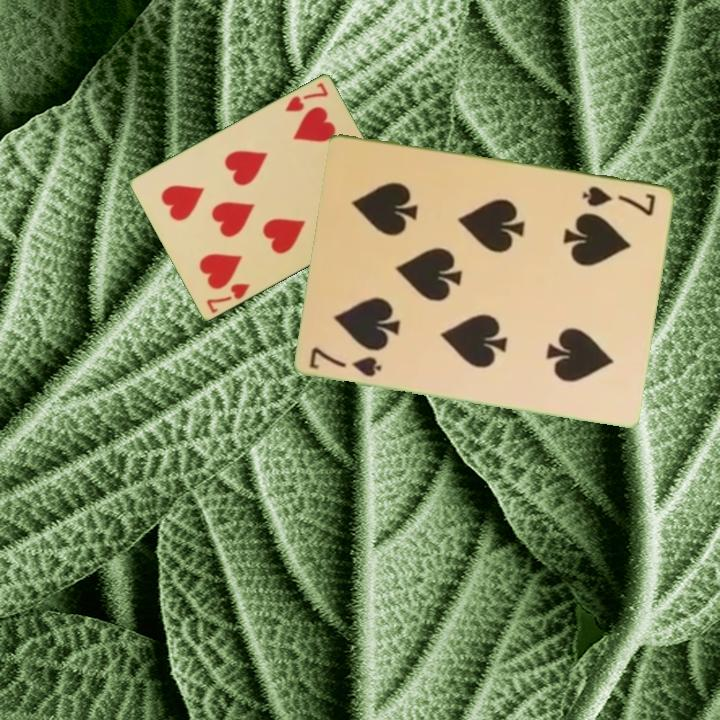7h: (203, 280, 253, 317), (281, 79, 331, 115)
7s: (306, 343, 385, 380), (580, 182, 659, 218)
